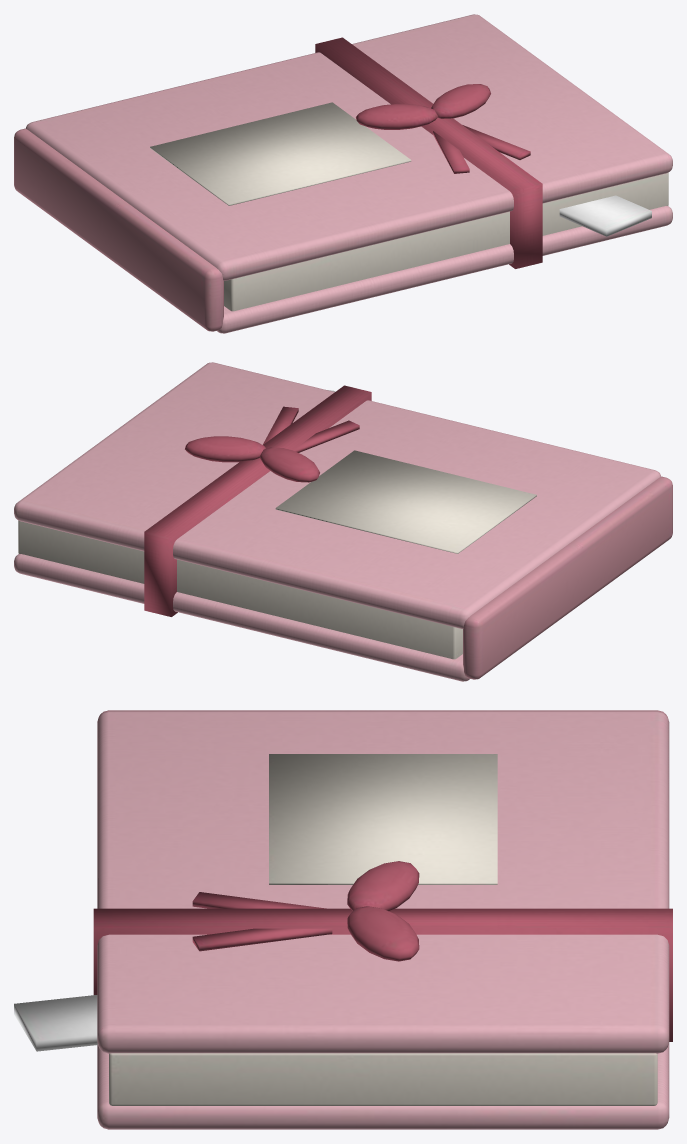
Rendered from keepsake-photobooth-album.glb.
3 views of the same model, one above another, from view 1: azimuth 30°, elevation 25°; view 2: azimuth 150°, elevation 25°; view 3: azimuth 270°, elevation 25° (orthographic). The views are drawn at different scales.
Visible parts, largest first — view 1: keepsake-photobooth-album; view 2: keepsake-photobooth-album; view 3: keepsake-photobooth-album.
Boxes of the visible parts, x1,y1,x2,y2 form: keepsake-photobooth-album: (14, 14, 672, 333); keepsake-photobooth-album: (14, 362, 672, 681); keepsake-photobooth-album: (14, 710, 672, 1129).
Bounding box in the file's own units: 0.2 × 0.038 × 0.1687.
Materials: 1 (1 with a texture image).
